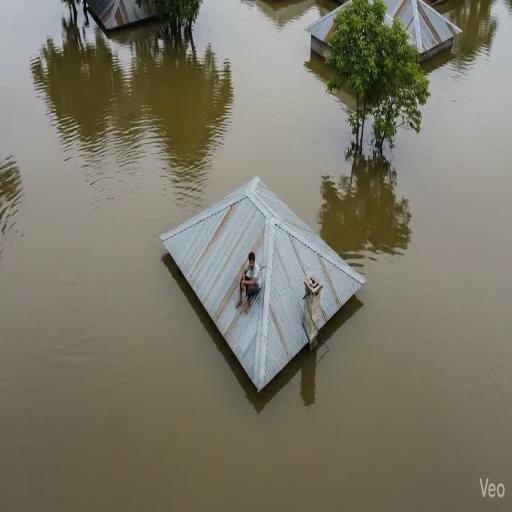human: (236, 252, 261, 312)
